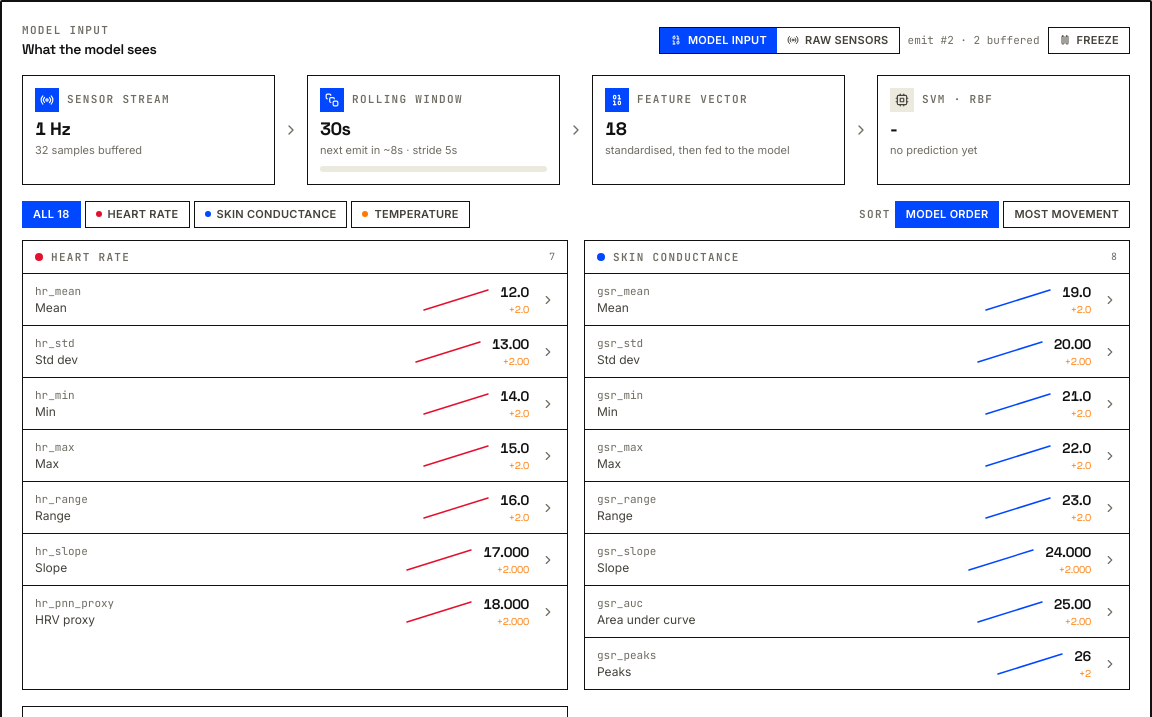
Scenario: ModelInputPanel › filters to a single sensor group
Click the button "Temperature".
click(411, 214)  # box [352,201,470,228]
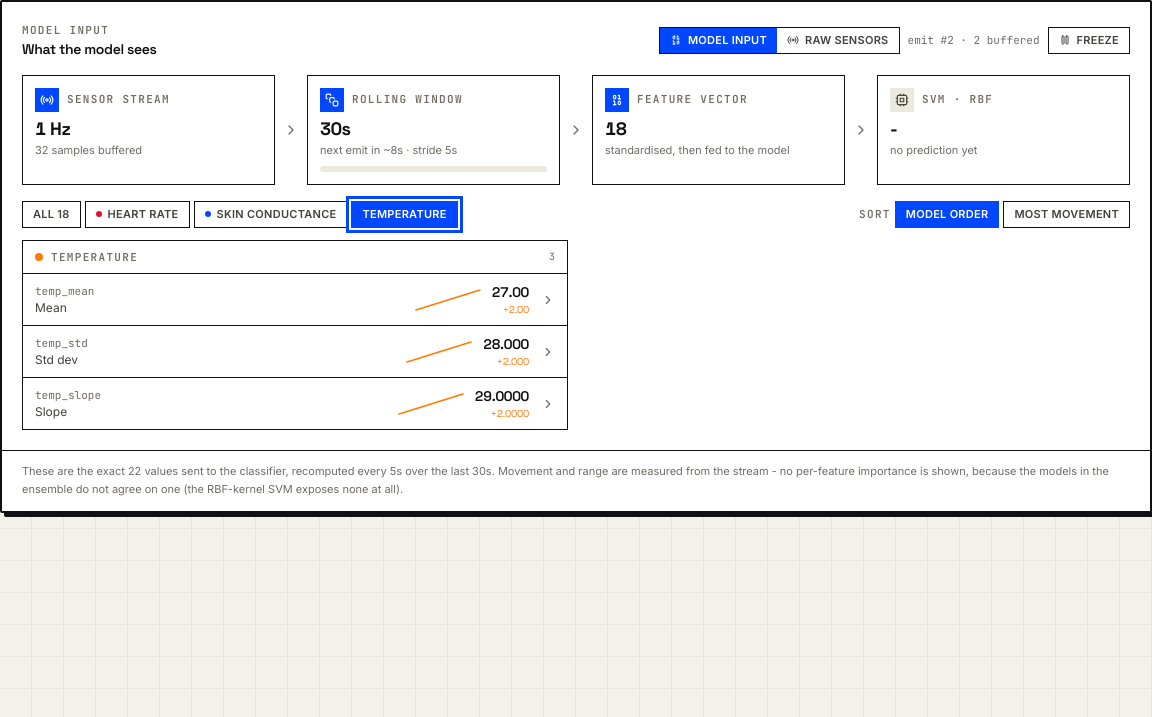
Expected: the text "temp_mean" is shown, [35,284,94,298]
Expected: the button "hr_mean" is gone
